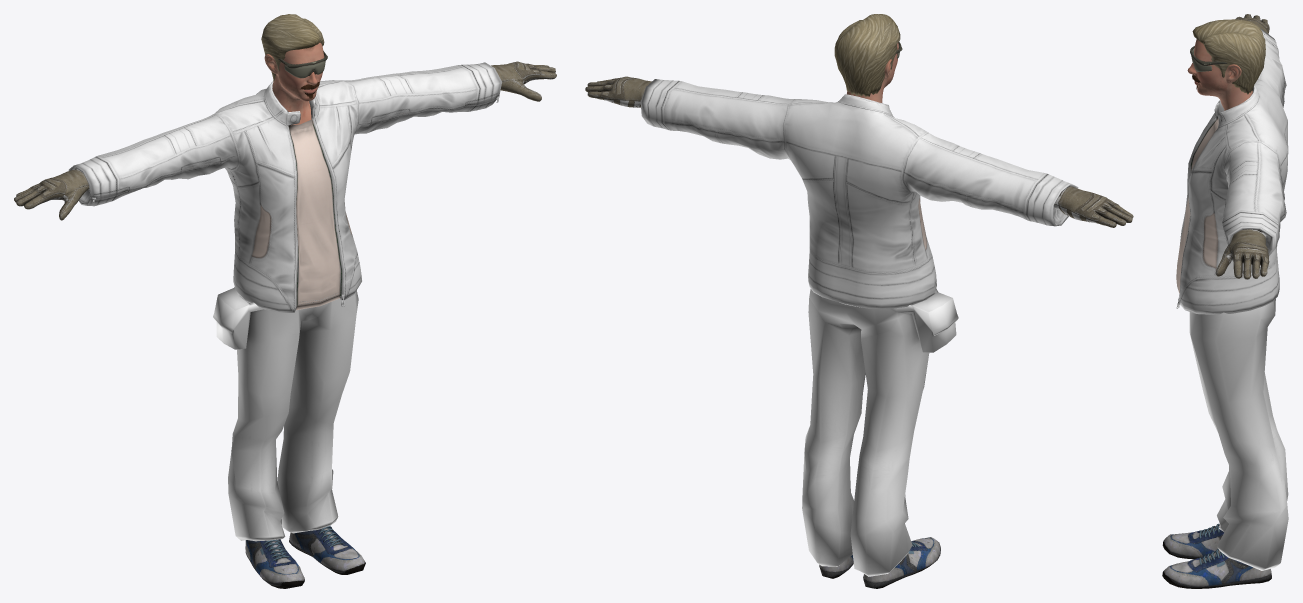
File: scietist 1 test.obj
3 views of the same model, side by side, from view 1: azimuth 30°, elevation 25°; view 2: azimuth 150°, elevation 25°; view 3: azimuth 270°, elevation 25° (orthographic).
Visible parts, largest first — view 1: Tops, Bottoms, Shoes, Gloves, Body, Hair; view 2: Tops, Bottoms, Hair, Gloves, Shoes; view 3: Tops, Bottoms, Shoes, Hair, Gloves, Body, Eyewear.
Boxes of the visible parts, x1=… form: Tops: x1=68, y1=62, x2=501, y2=312; Bottoms: x1=213, y1=287, x2=358, y2=541; Shoes: x1=245, y1=526, x2=365, y2=588; Gloves: x1=14, y1=61, x2=556, y2=220; Body: x1=264, y1=42, x2=324, y2=125; Hair: x1=261, y1=14, x2=324, y2=81; Tops: x1=640, y1=79, x2=1078, y2=309; Bottoms: x1=802, y1=288, x2=958, y2=576; Hair: x1=834, y1=14, x2=900, y2=96; Gloves: x1=585, y1=76, x2=1133, y2=227; Shoes: x1=819, y1=537, x2=940, y2=588; Tops: x1=1176, y1=28, x2=1288, y2=314; Bottoms: x1=1189, y1=299, x2=1288, y2=570; Shoes: x1=1162, y1=523, x2=1271, y2=588; Hair: x1=1192, y1=19, x2=1265, y2=94; Gloves: x1=1215, y1=14, x2=1269, y2=279; Body: x1=1187, y1=39, x2=1252, y2=110; Eyewear: x1=1190, y1=46, x2=1227, y2=71.
Size of the model in its own units: 187 by 180 by 37.62.
Materials: 9 (9 with a texture image).
